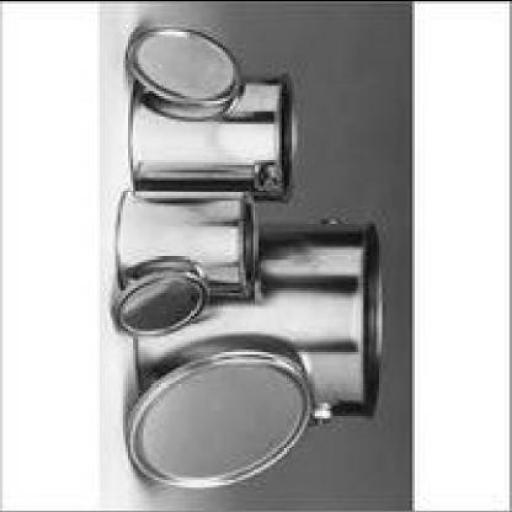metal: (138, 220, 384, 418), (128, 351, 315, 491), (128, 79, 298, 205), (118, 191, 259, 300), (131, 26, 246, 107), (117, 266, 210, 338)
